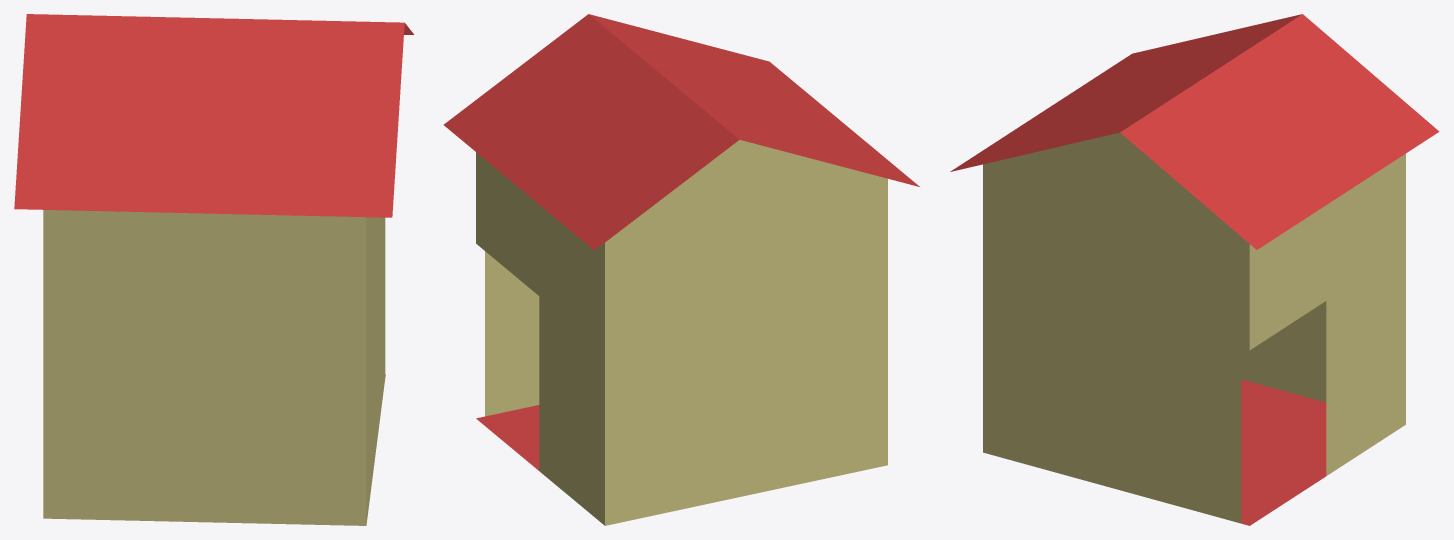
3 views of the same model, side by side, from view 1: azimuth 30°, elevation 25°; view 2: azimuth 150°, elevation 25°; view 3: azimuth 270°, elevation 25° (orthographic). The views are drawn at different scales.
Bounding box in the file's own units: 14.86 × 15.15 × 12.61.
